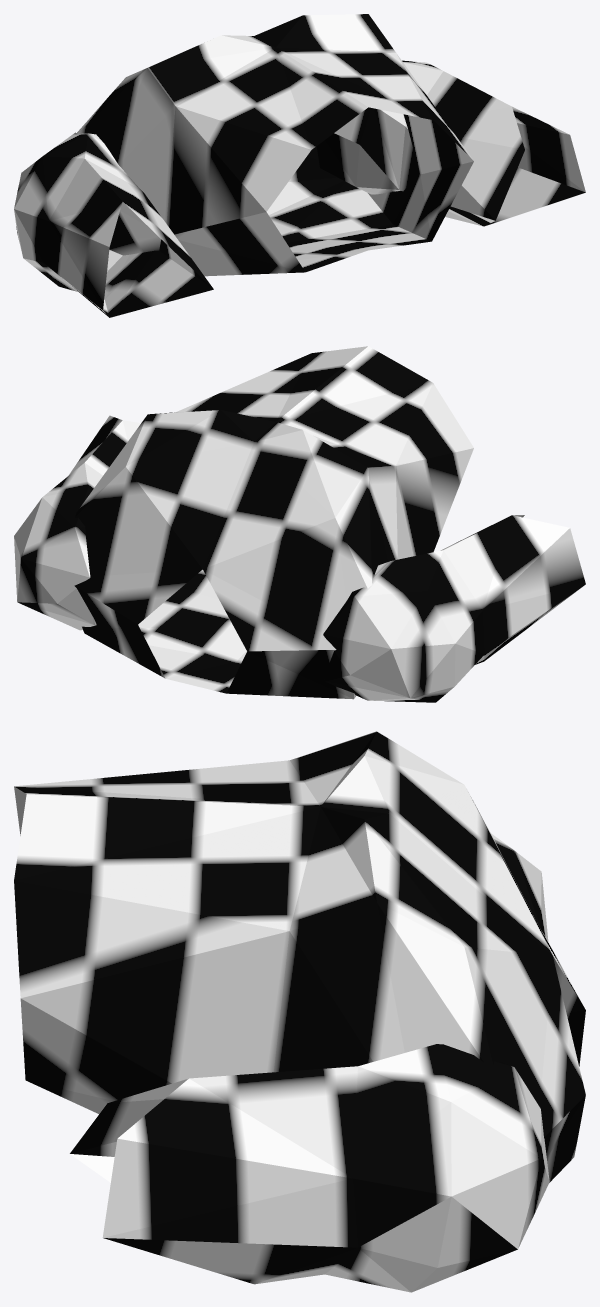
Rendered from initarsh1.dae.
The picture shows the model from 3 angles, top to bottom: view 1: azimuth 30°, elevation 25°; view 2: azimuth 150°, elevation 25°; view 3: azimuth 270°, elevation 25°; orthographic projection. The views are drawn at different scales.
Visible parts, largest first — view 1: armor; view 2: armor; view 3: armor.
Part boxes in pixels (x1,y1,x2,y2): armor: [14, 14, 585, 317]; armor: [14, 346, 585, 702]; armor: [14, 731, 585, 1292].
Size of the model in its own units: 1.84 by 1.19 by 0.8258.
1 material, 1 textured.
